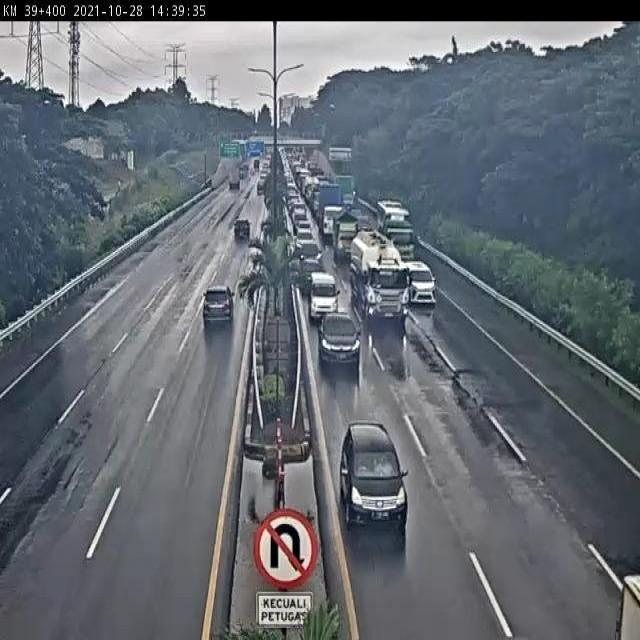big bus: (381, 203, 417, 257)
big truck: (348, 232, 408, 325)
car: (334, 420, 407, 524), (312, 309, 360, 360), (201, 278, 242, 334), (302, 267, 351, 312), (403, 255, 439, 297), (289, 228, 324, 261), (228, 227, 255, 261)
small truck: (597, 536, 640, 640), (329, 214, 364, 266)
